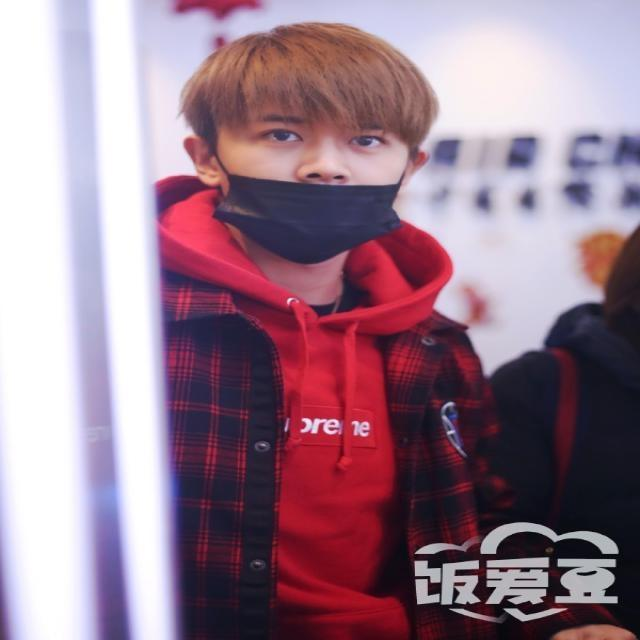hairnet: (214, 105, 404, 261)
